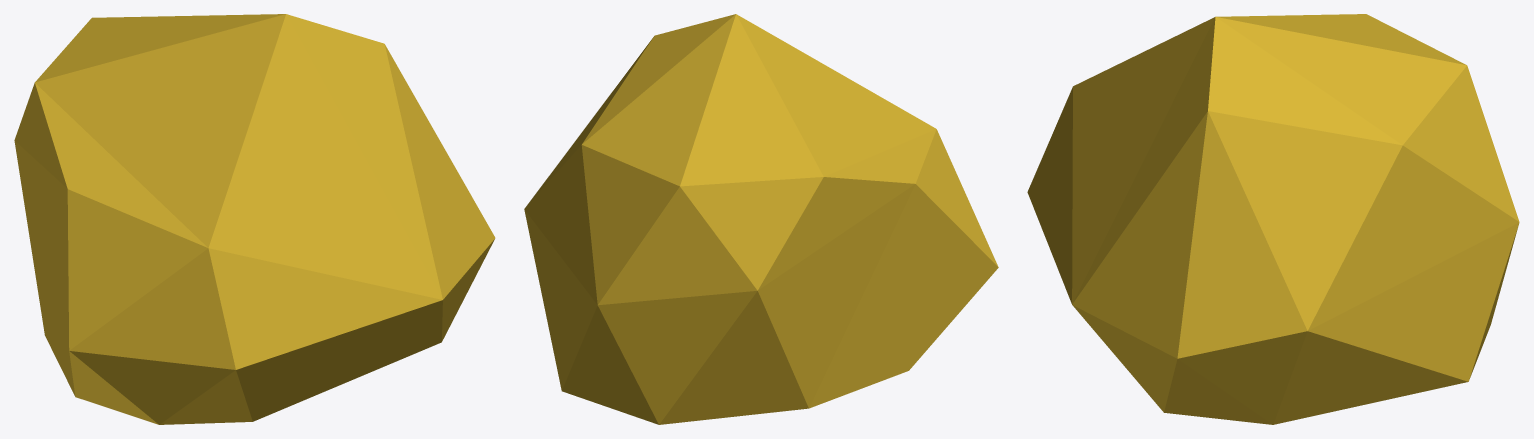
File: co_Bush01_B.fbx
3 views of the same model, side by side, from view 1: azimuth 30°, elevation 25°; view 2: azimuth 150°, elevation 25°; view 3: azimuth 270°, elevation 25° (orthographic). The views are drawn at different scales.
Parts seen in each view (by area): view 1: Bush01_B; view 2: Bush01_B; view 3: Bush01_B.
Part boxes in pixels (x1=…): Bush01_B: x1=14, y1=14, x2=495, y2=424; Bush01_B: x1=524, y1=14, x2=998, y2=424; Bush01_B: x1=1027, y1=14, x2=1519, y2=424.
Size of the model in its own units: 5.08 by 3.72 by 4.96.
